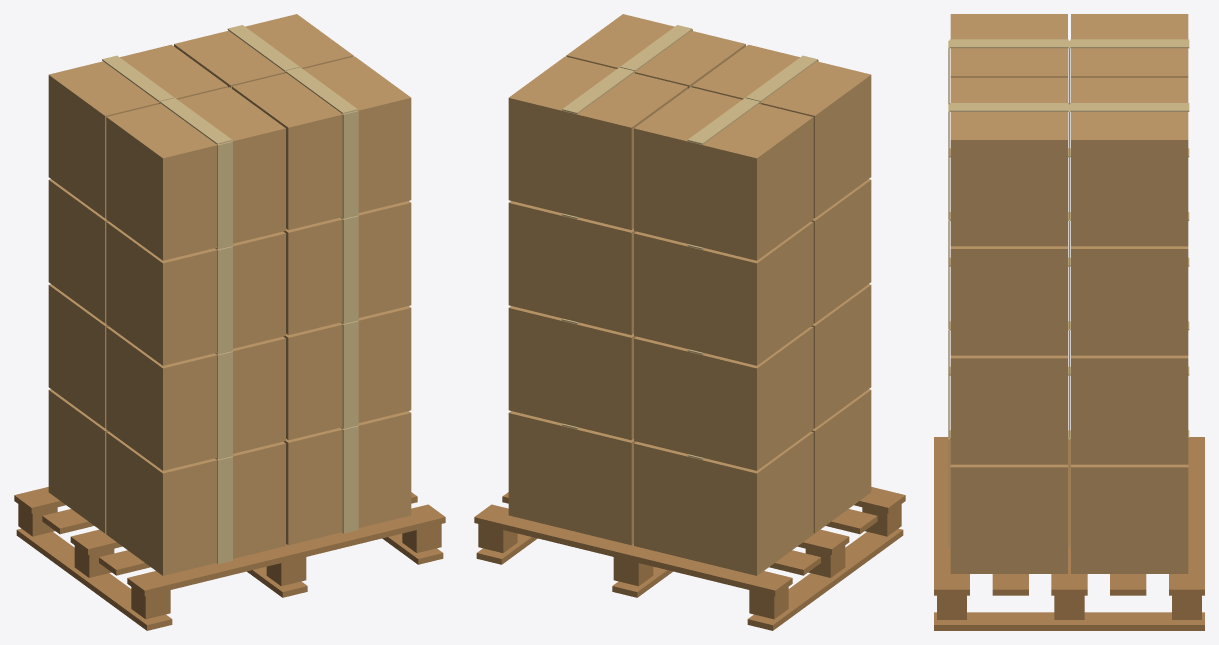
Rendered from palet-koli.glb.
3 renders of one model, left to right at view 1: azimuth 30°, elevation 25°; view 2: azimuth 150°, elevation 25°; view 3: azimuth 270°, elevation 25°, orthographic. The views are drawn at different scales.
Visible parts, largest first — view 1: Asset; view 2: Asset; view 3: Asset.
Boxes of the visible parts, bbox=[...] form: Asset: bbox=[14, 14, 445, 630]; Asset: bbox=[474, 14, 905, 630]; Asset: bbox=[934, 14, 1204, 630].
Bounding box in the file's own units: 1.2 × 1.76 × 0.9.
